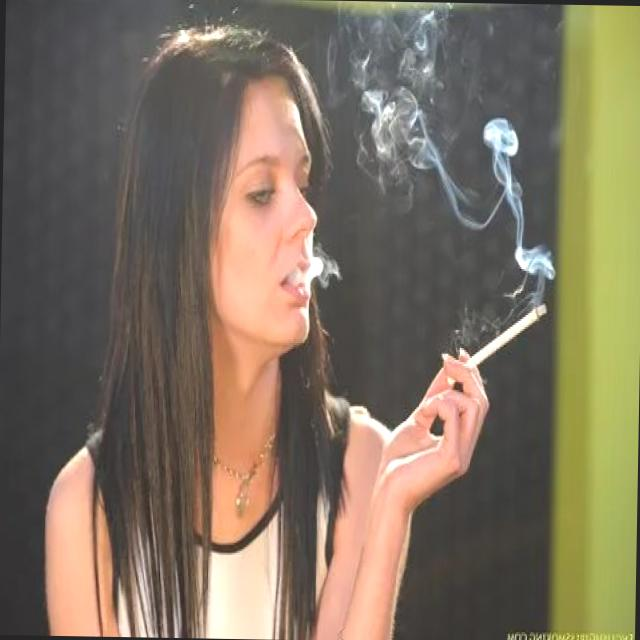cigarette: (461, 293, 550, 371)
